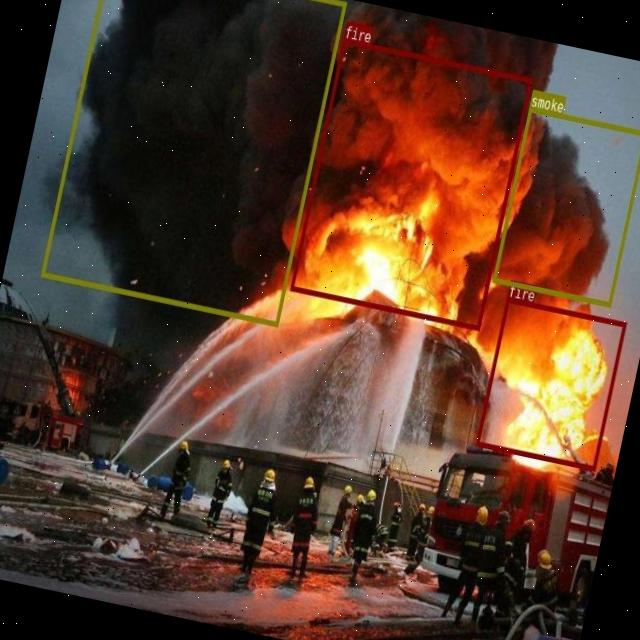fire: (289, 38, 532, 330), (476, 298, 626, 470)
smoke: (40, 0, 346, 325), (491, 106, 640, 306)
